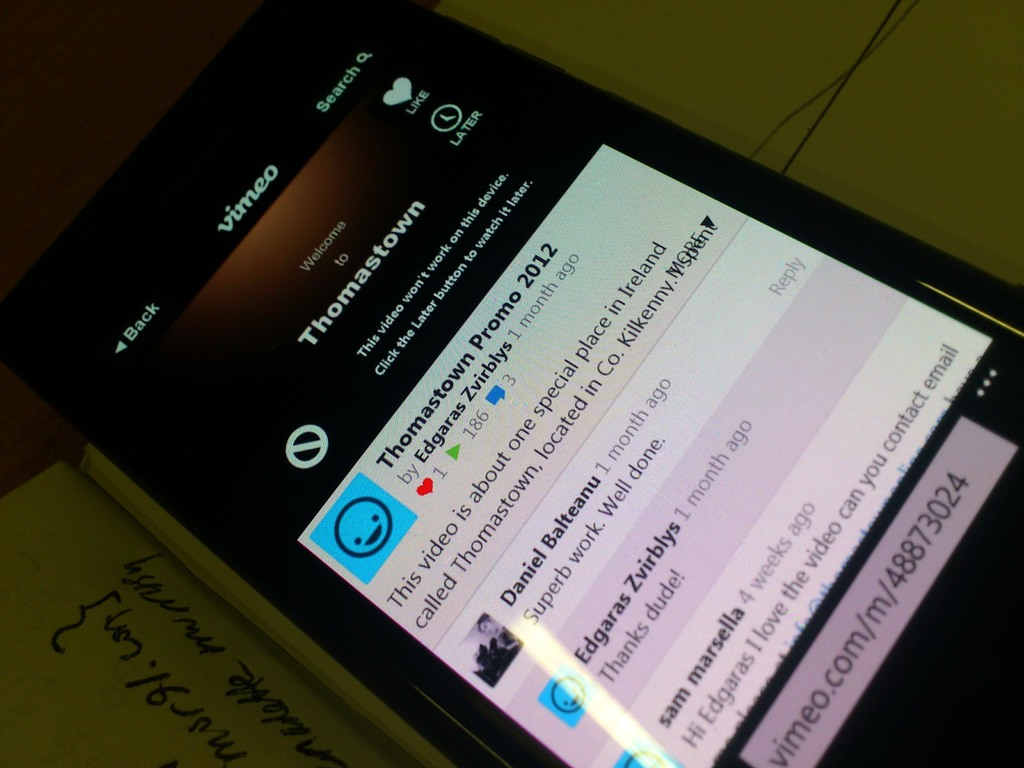Mobile-phone: (6, 4, 1024, 768)
